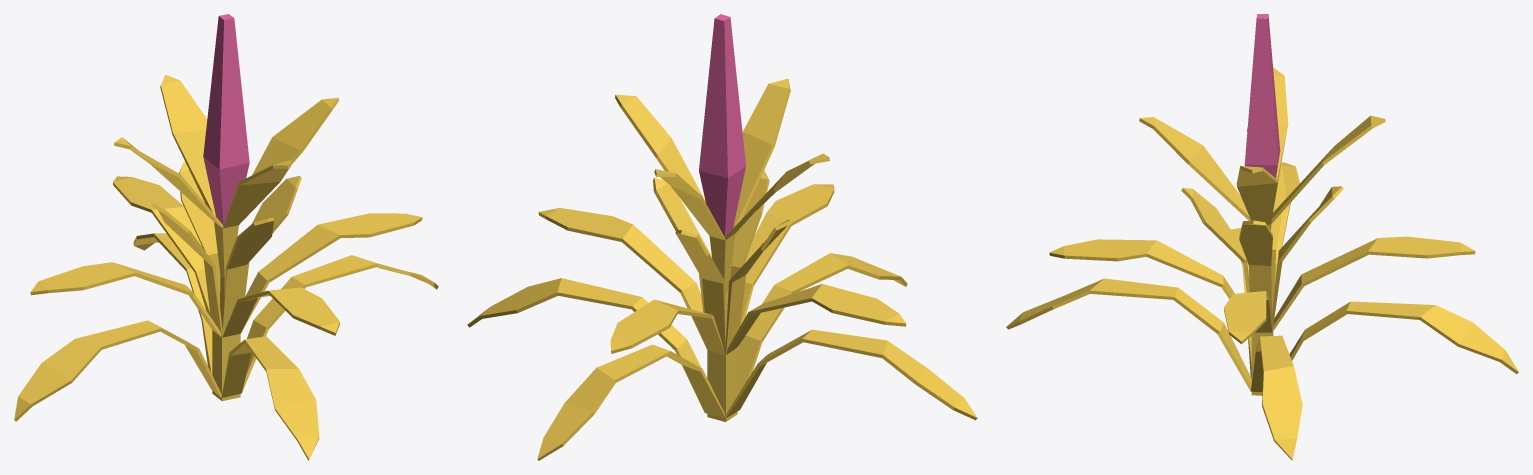
Rendered from flower-plant.glb.
The picture shows the model from 3 angles, left to right: view 1: azimuth 30°, elevation 25°; view 2: azimuth 150°, elevation 25°; view 3: azimuth 270°, elevation 25°; orthographic projection. The views are drawn at different scales.
Parts seen in each view (by area): view 1: Plant_5; view 2: Plant_5; view 3: Plant_5.
Boxes of the visible parts, x1,y1,x2,y2 form: Plant_5: [14, 14, 438, 460]; Plant_5: [467, 14, 977, 460]; Plant_5: [1006, 14, 1518, 460].
Bounding box in the file's own units: 1.74 × 1.39 × 1.72.
